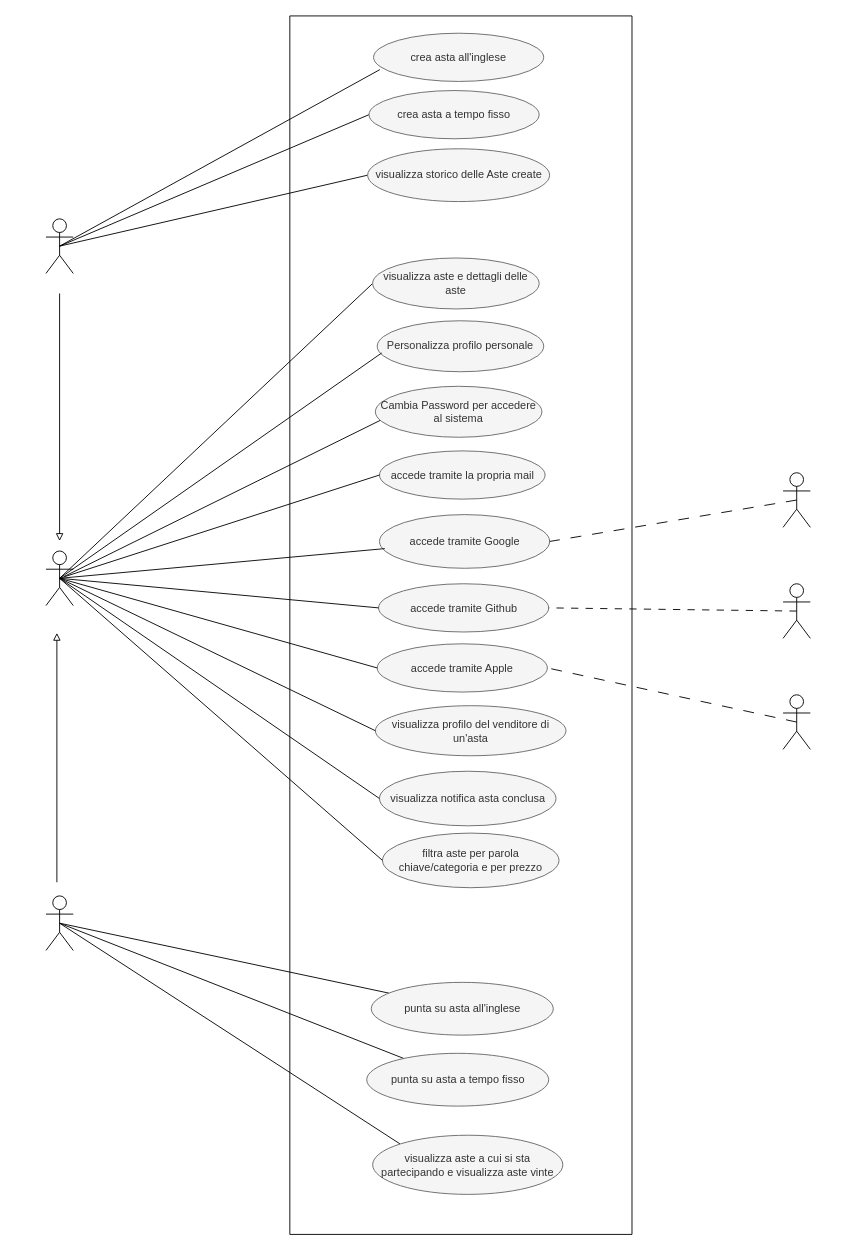
Image size: 842x1250. Some labels were removed from this diagram. The centre of each missing label's shape, as x and y in pixels:
"API Apple" goes at [796,721].
"API Github" goes at [796,610].
"API Google" goes at [796,499].
"Compratore" goes at [59,922].
"Utente registrato" goes at [59,578].
"Venditore" goes at [59,245].
